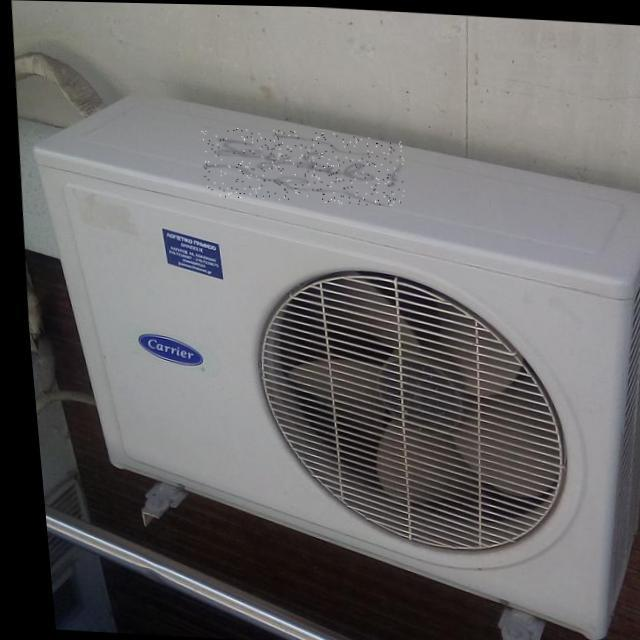-: (196, 124, 404, 206)
